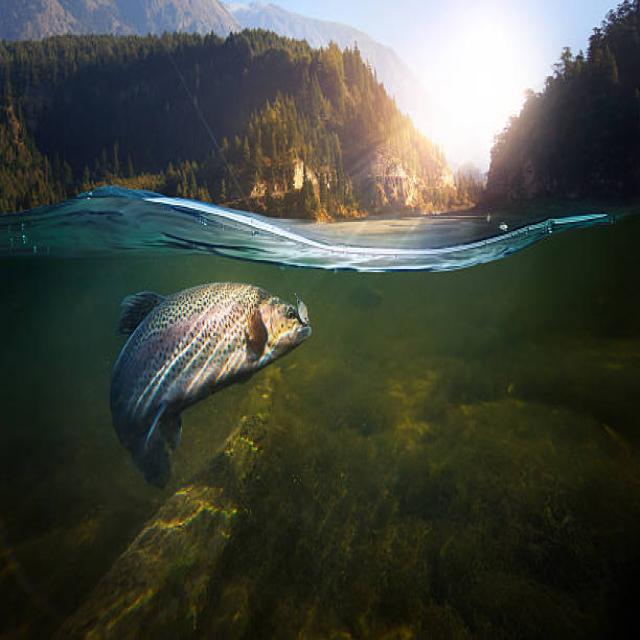salmon: (99, 253, 324, 503)
